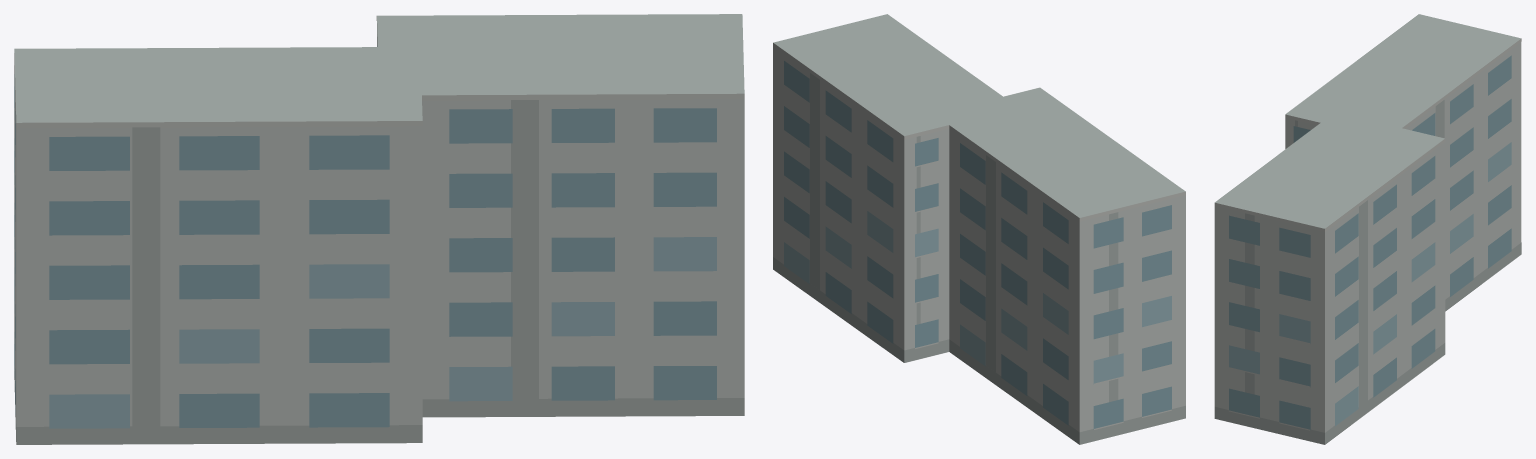
Rendered from residential-0f42a778-ff44-4614-ac72-4ed0850cd337.glb.
3 views of the same model, side by side, from view 1: azimuth 30°, elevation 25°; view 2: azimuth 150°, elevation 25°; view 3: azimuth 270°, elevation 25° (orthographic). The views are drawn at different scales.
Parts seen in each view (by area): view 1: residential-0f42a778-ff44-4614-ac72-4ed0850cd337.tmp; view 2: residential-0f42a778-ff44-4614-ac72-4ed0850cd337.tmp; view 3: residential-0f42a778-ff44-4614-ac72-4ed0850cd337.tmp.
Boxes of the visible parts, x1=… form: residential-0f42a778-ff44-4614-ac72-4ed0850cd337.tmp: x1=14, y1=14, x2=744, y2=444; residential-0f42a778-ff44-4614-ac72-4ed0850cd337.tmp: x1=773, y1=14, x2=1185, y2=444; residential-0f42a778-ff44-4614-ac72-4ed0850cd337.tmp: x1=1214, y1=14, x2=1521, y2=444.
Bounding box in the file's own units: 32.52 × 15.25 × 19.64.
